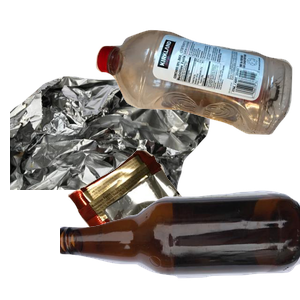glass: (60, 188, 300, 300)
metal: (10, 73, 212, 253)
plastic: (93, 27, 300, 154)
trash: (65, 148, 258, 300)
